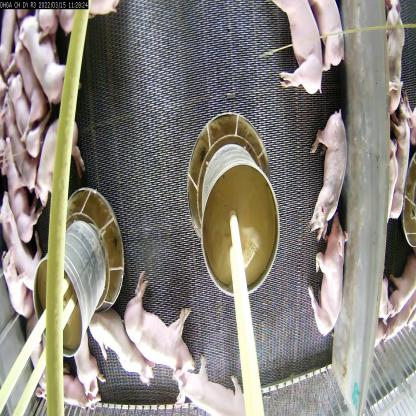Pig: (121, 287, 204, 382), (83, 296, 166, 386), (298, 96, 344, 247), (270, 0, 330, 109), (302, 212, 350, 342), (32, 111, 90, 216), (19, 14, 75, 116), (0, 186, 45, 280), (177, 356, 247, 416), (6, 73, 44, 171), (0, 136, 36, 238), (10, 36, 51, 116), (37, 370, 108, 415), (306, 0, 344, 77), (0, 101, 32, 192), (1, 246, 34, 318), (64, 323, 96, 393)
